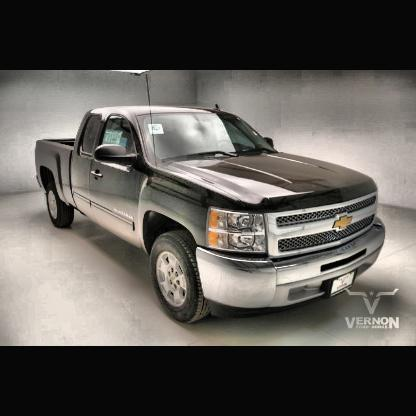Chevrolet Silverado 1500 Extended Cab 2012: (33, 104, 388, 328)
